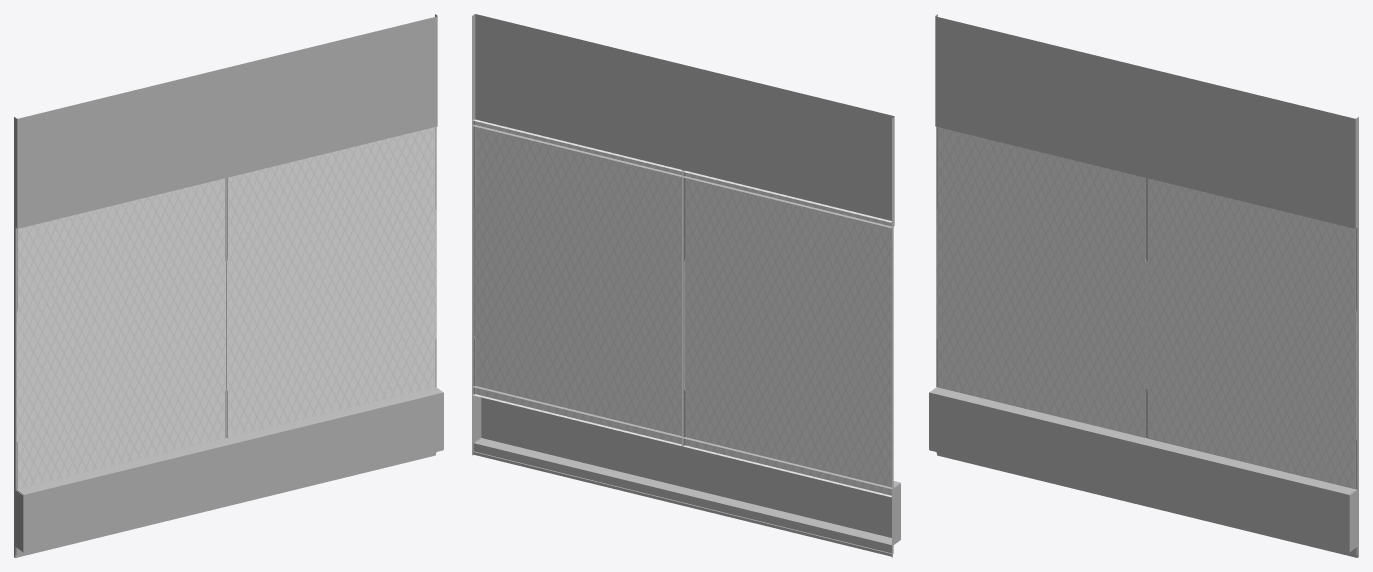
The picture shows the model from 3 angles, left to right: view 1: azimuth 30°, elevation 25°; view 2: azimuth 150°, elevation 25°; view 3: azimuth 330°, elevation 25°; orthographic projection.
Visible parts, largest first — view 1: M_W_102_b_8x8; view 2: M_W_102_b_8x8; view 3: M_W_102_b_8x8.
Boxes of the visible parts, <box> form: M_W_102_b_8x8: <box>14,14,443,557</box>; M_W_102_b_8x8: <box>472,14,900,557</box>; M_W_102_b_8x8: <box>929,14,1358,557</box>.
Bounding box in the file's own units: 8 × 8 × 0.3002.
